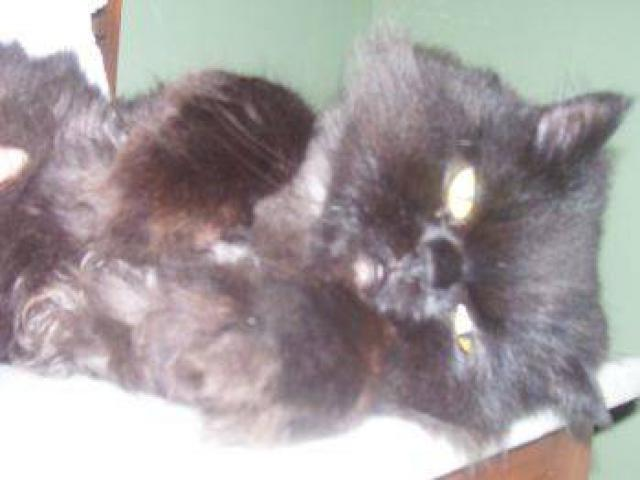cat: (181, 67, 637, 458)
